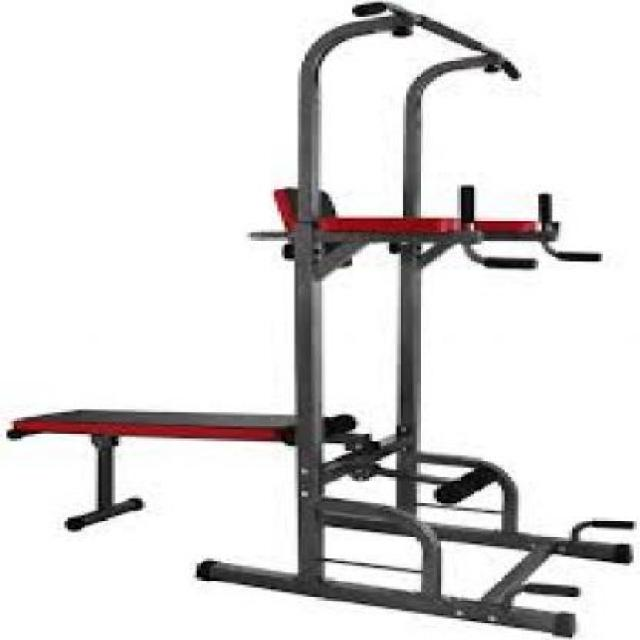chinning dipping: (289, 1, 629, 634)
